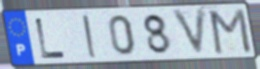0: (107, 13, 140, 58)
8: (142, 12, 174, 56)
I: (80, 13, 100, 60)
L: (34, 17, 68, 60)
M: (208, 7, 254, 56)
V: (170, 7, 209, 59)
